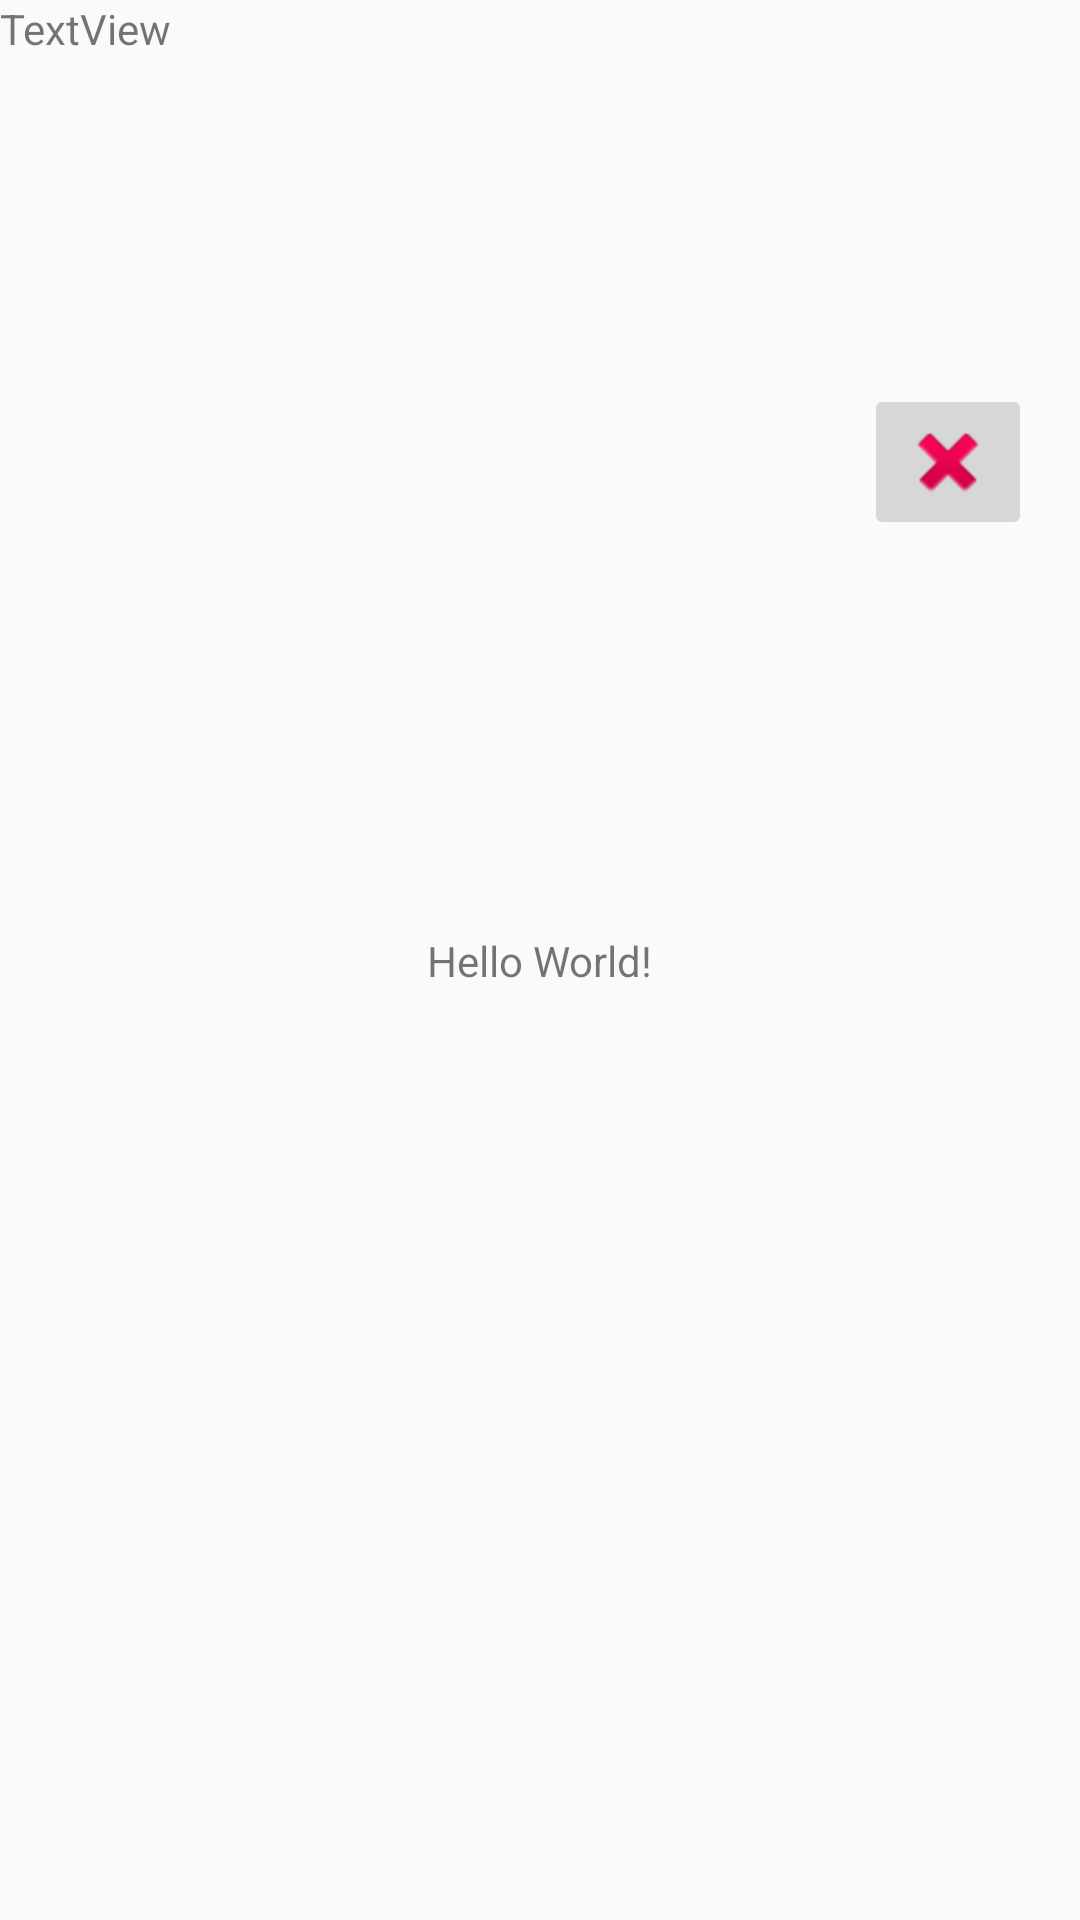

Screen size 1080w x 1920h. Icon name, then its box in pixels as (left=x1, top=y1, right=x2, bottom=y2):
delete: (left=876, top=402, right=1020, bottom=522)
